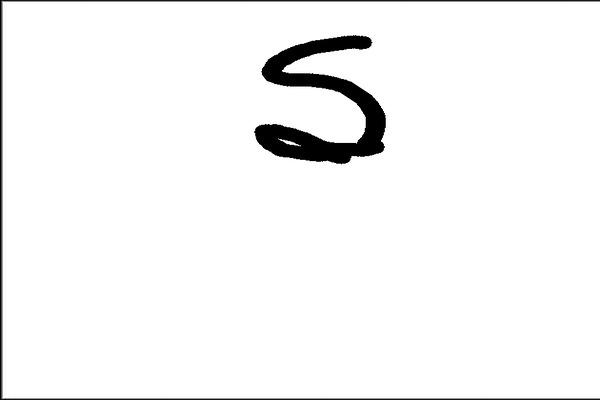S: (246, 29, 392, 168)
